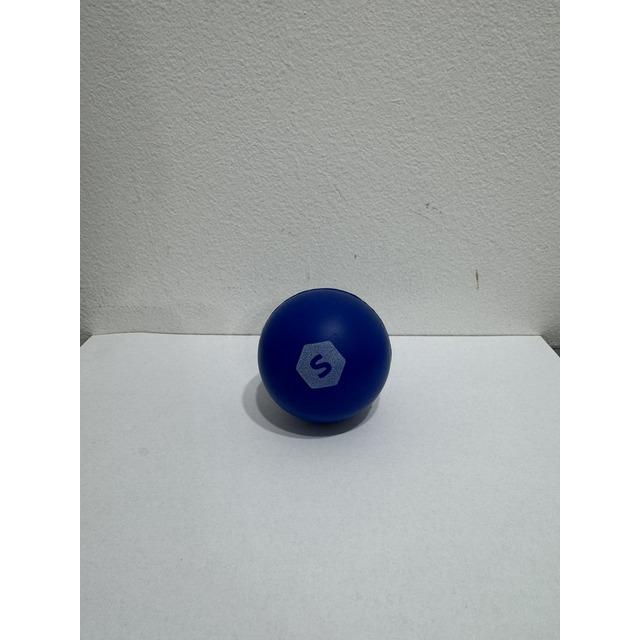blue_ball: (257, 287, 397, 435)
